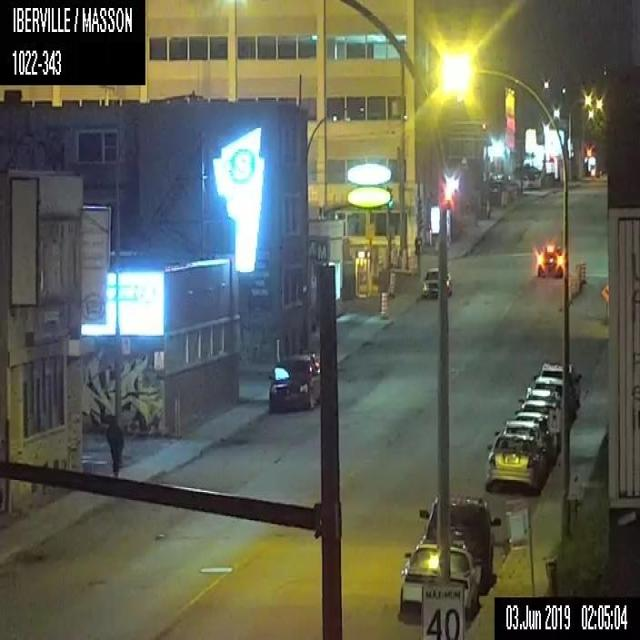construction: (599, 283, 608, 324), (380, 290, 388, 317), (389, 270, 396, 298), (580, 262, 586, 284), (402, 247, 406, 270)
vehicle: (418, 493, 500, 593), (398, 540, 481, 618), (484, 435, 546, 497), (266, 351, 320, 413), (513, 410, 553, 472), (532, 360, 580, 408), (492, 419, 546, 448), (420, 265, 451, 300), (534, 242, 564, 278), (532, 375, 564, 403), (519, 400, 556, 424), (517, 386, 560, 402)
